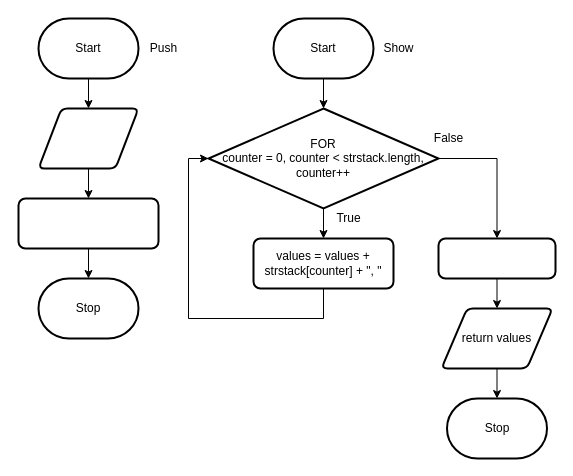
Some shapes in this 573 by 476 pixel diagram are drawn without their labels. Each missing label, with the centre of its shape:
"Input String" belongs at [88,138].
"strstack.push(String)" belongs at [88,223].
"values.slice(0, -2)" belongs at [496,258].
